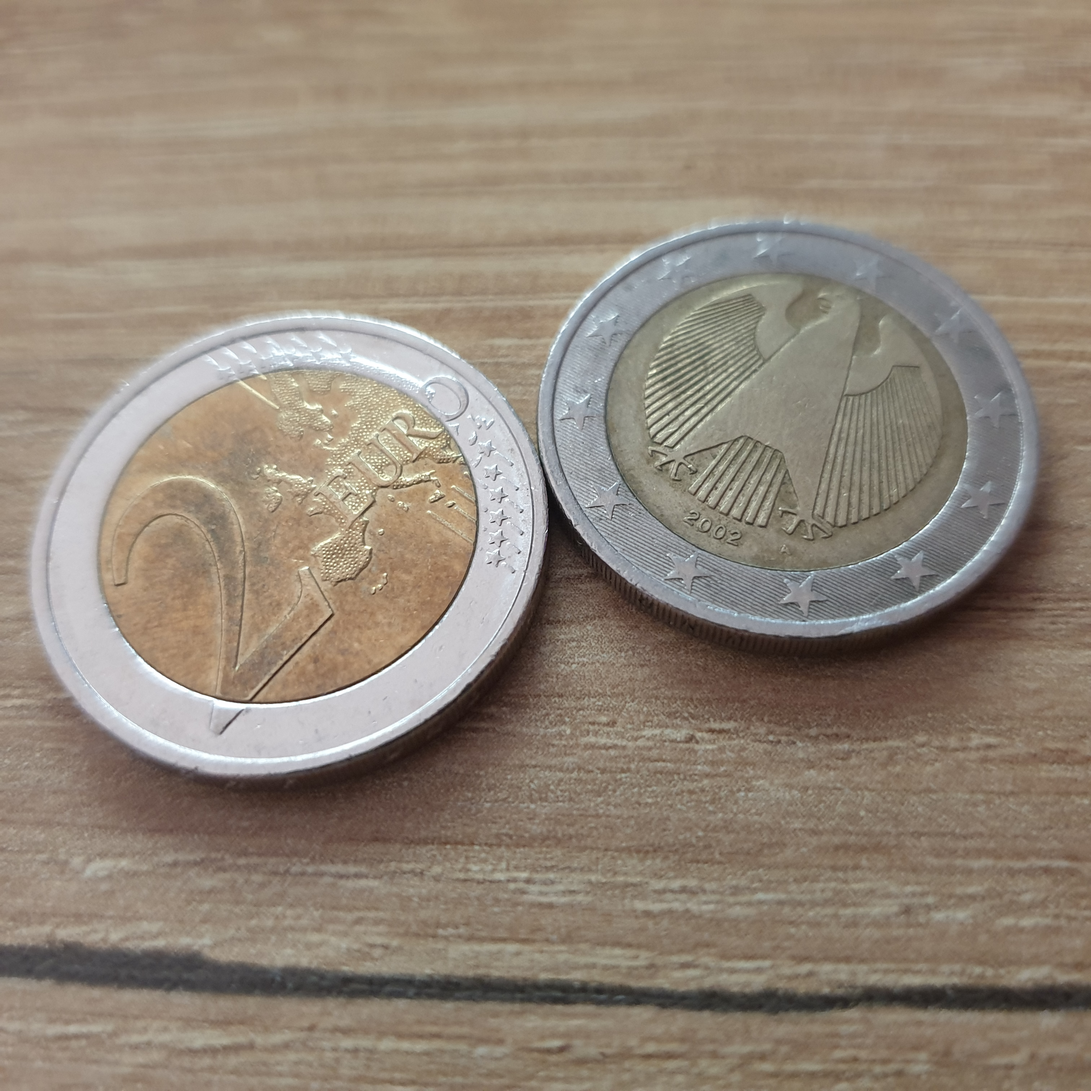2 euro: (21, 297, 548, 782), (539, 205, 1053, 656)
